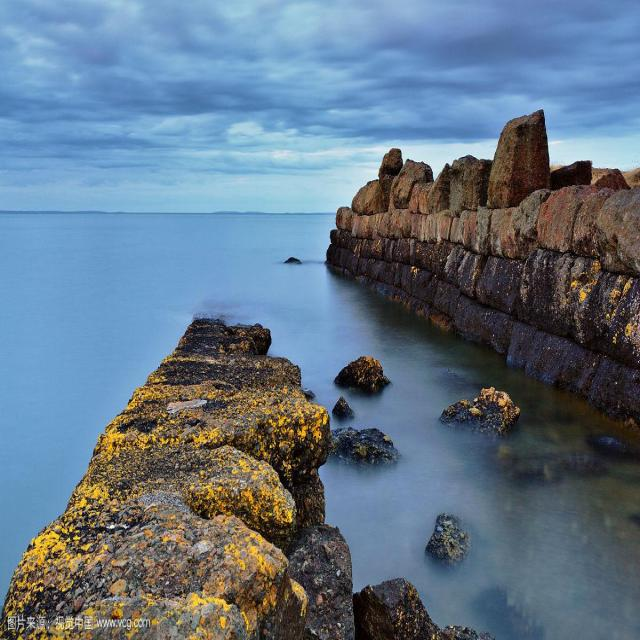reef: (51, 323, 418, 640), (332, 131, 640, 345), (425, 461, 490, 581), (428, 370, 520, 447)
